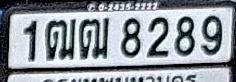1: (24, 20, 36, 60)
2: (147, 16, 169, 56)
8: (121, 17, 142, 58), (174, 16, 194, 55)
9: (202, 14, 222, 54)
A18: (78, 18, 110, 58), (46, 18, 76, 60)
